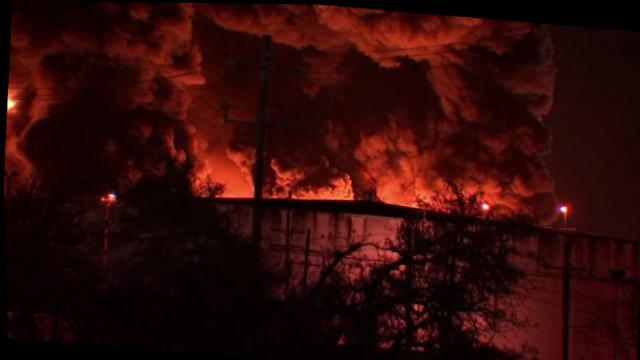smoke: (394, 10, 561, 190), (11, 82, 214, 190), (6, 0, 216, 92), (235, 77, 354, 166), (207, 2, 323, 55), (352, 74, 402, 194), (319, 4, 403, 68), (287, 167, 359, 201), (502, 190, 533, 219)
